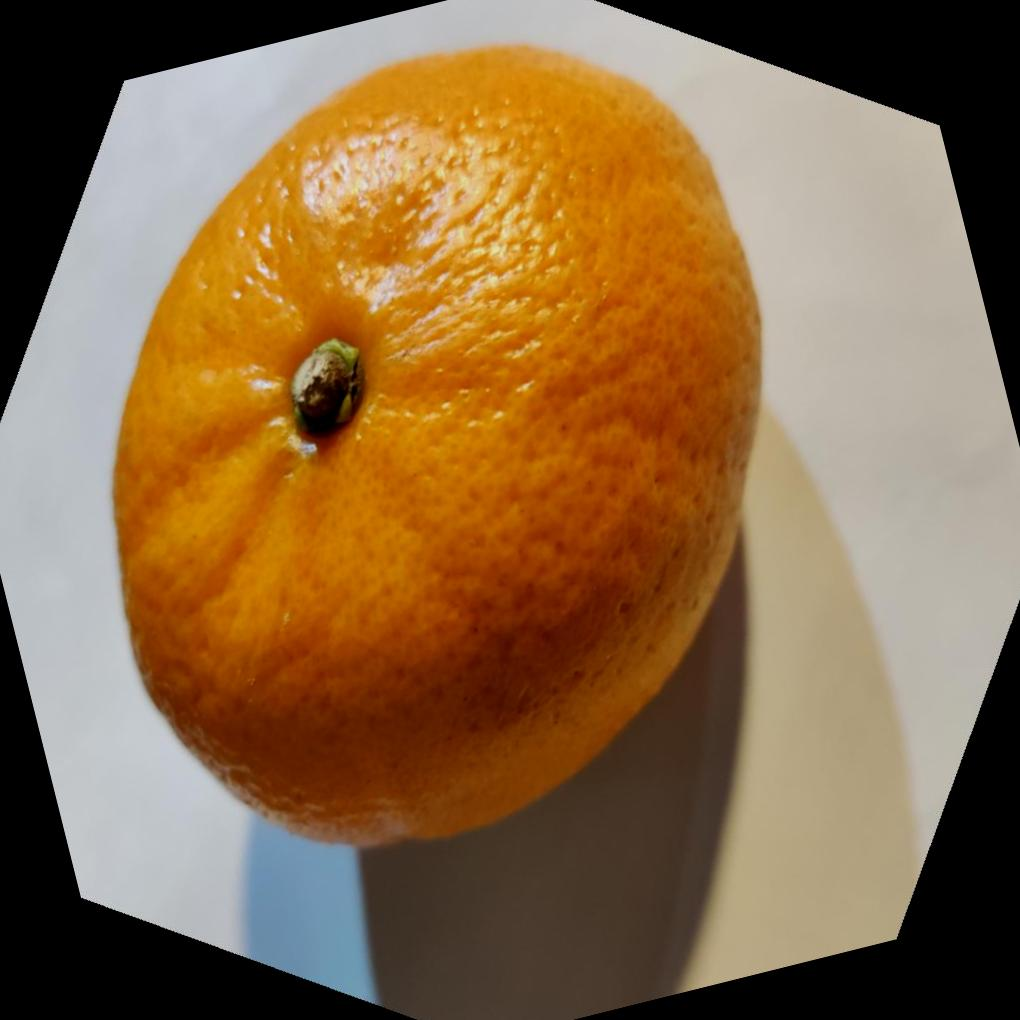FreshGuava: (109, 45, 765, 856)
